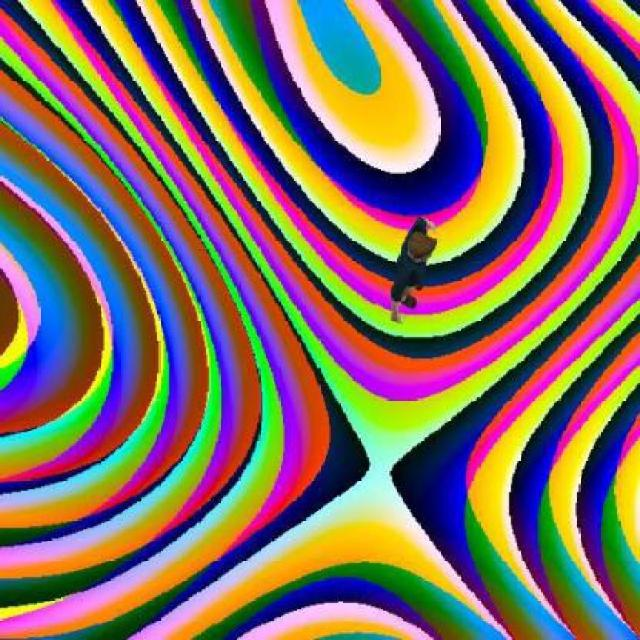Person: (388, 212, 442, 326)
